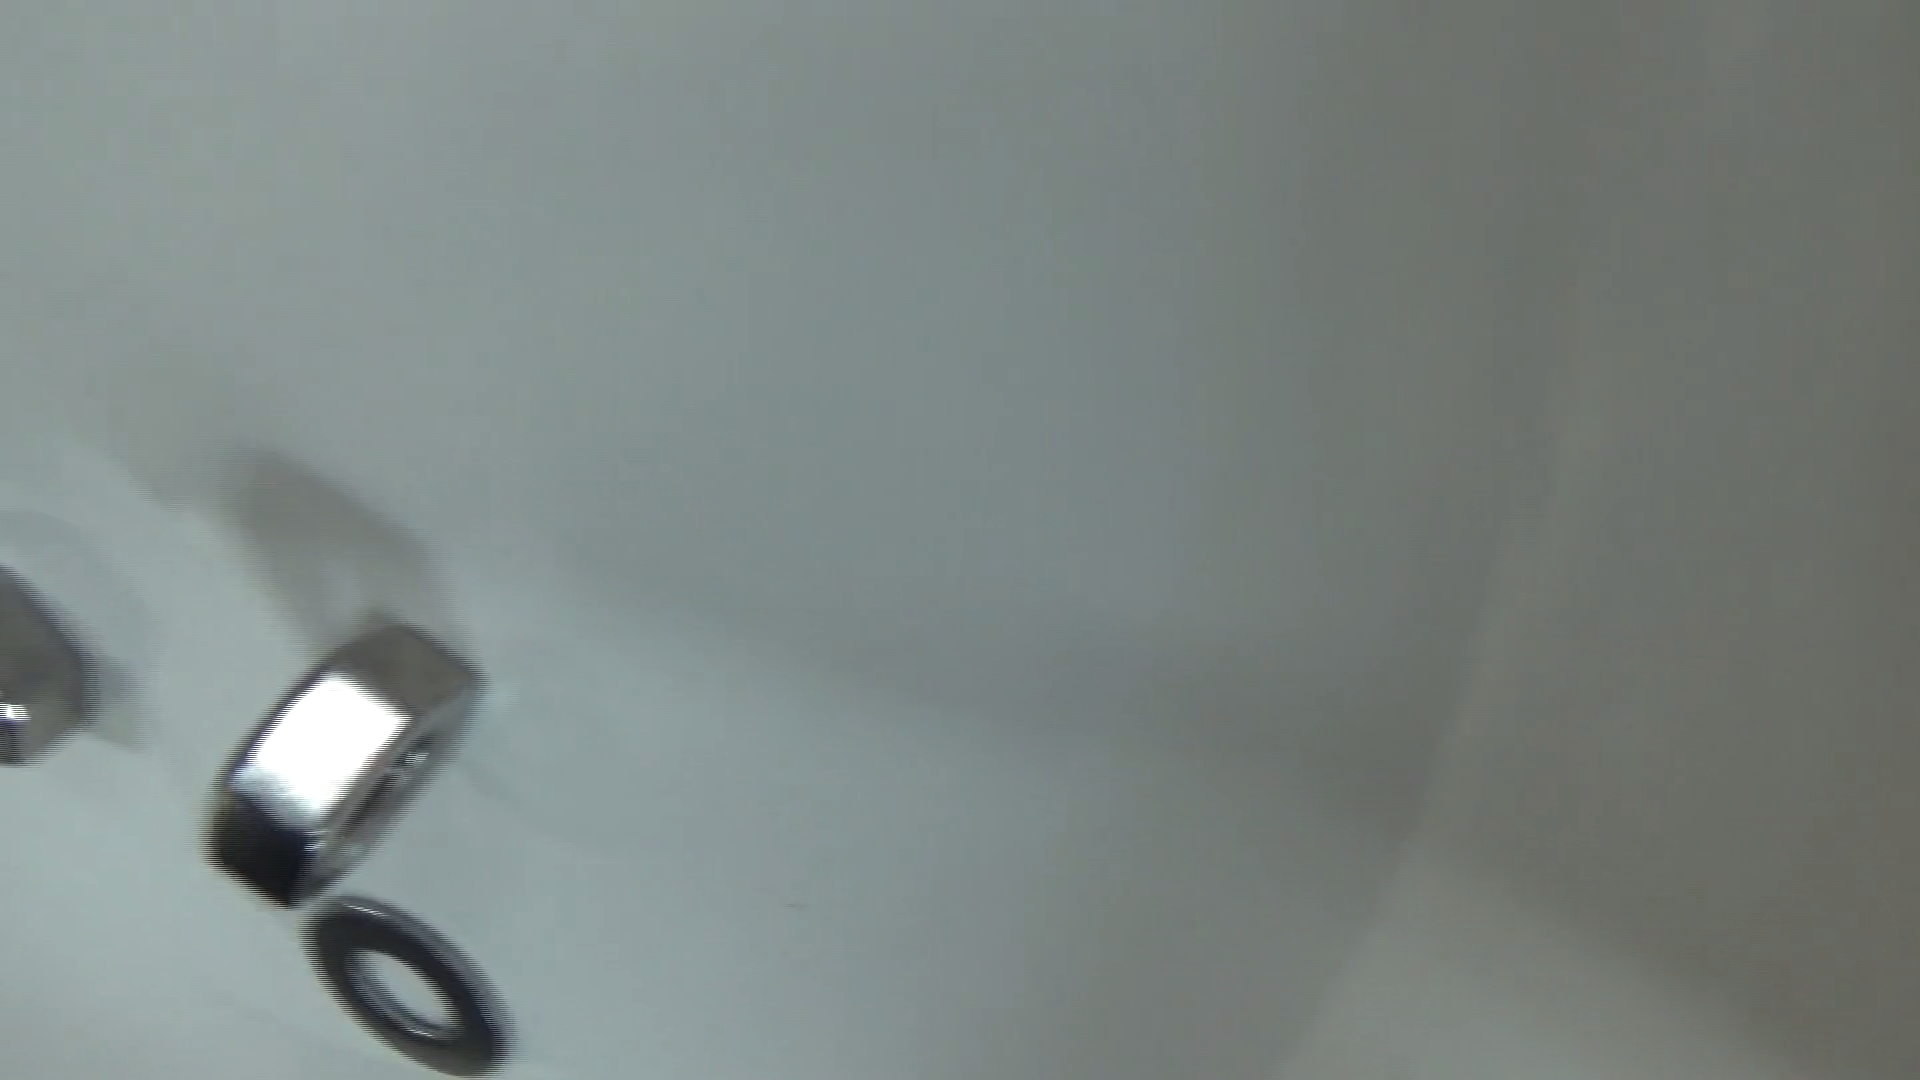nut: (204, 624, 480, 905), (3, 563, 94, 766)
washer: (301, 901, 524, 1077)
